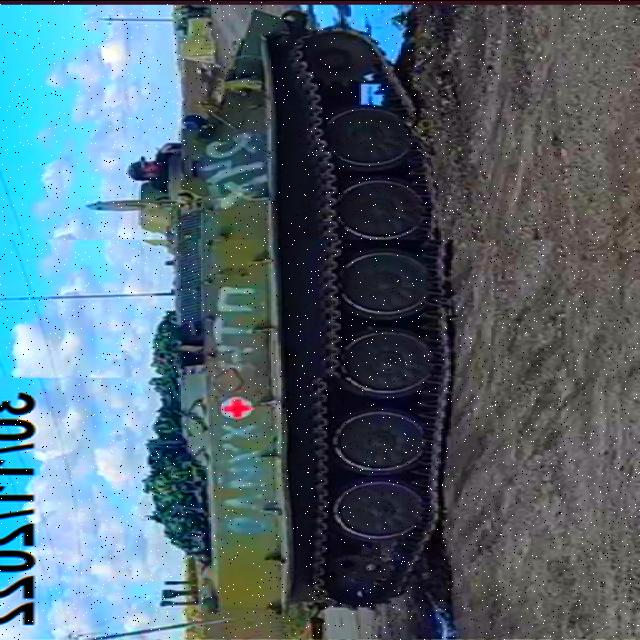APC-IFV: (126, 6, 458, 622)
